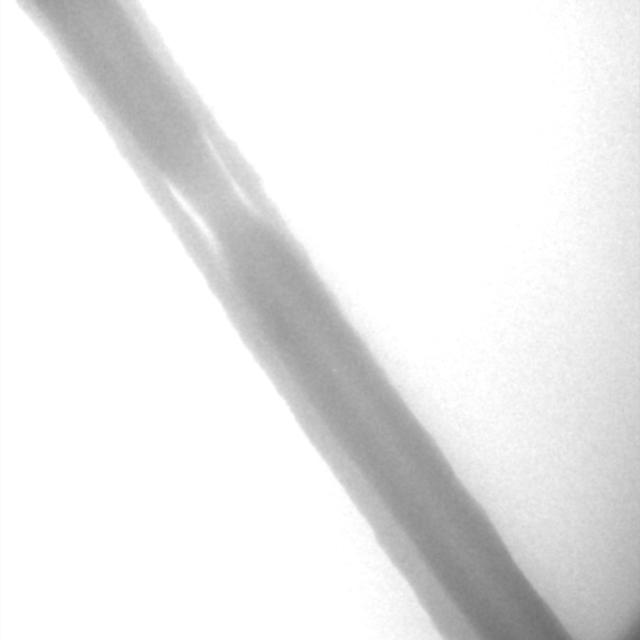unfused: (168, 138, 260, 253)
